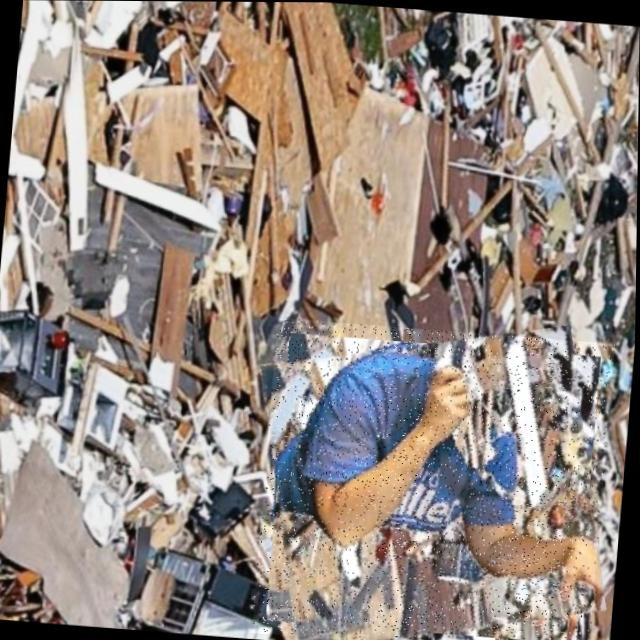Person in Rubble: (252, 317, 614, 640)
